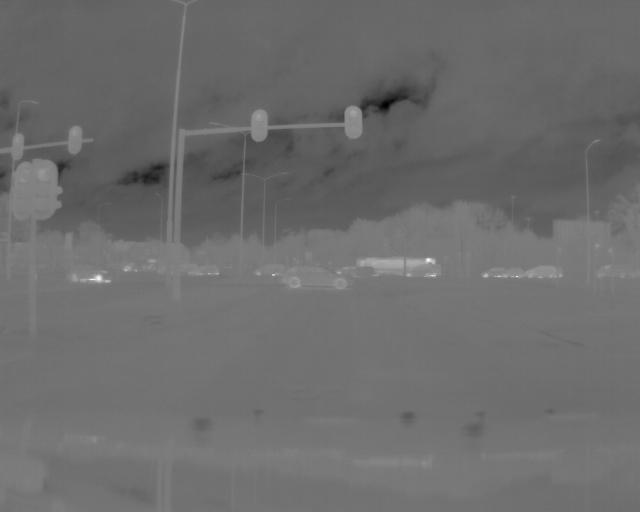car: (281, 263, 356, 290), (67, 262, 113, 285)
